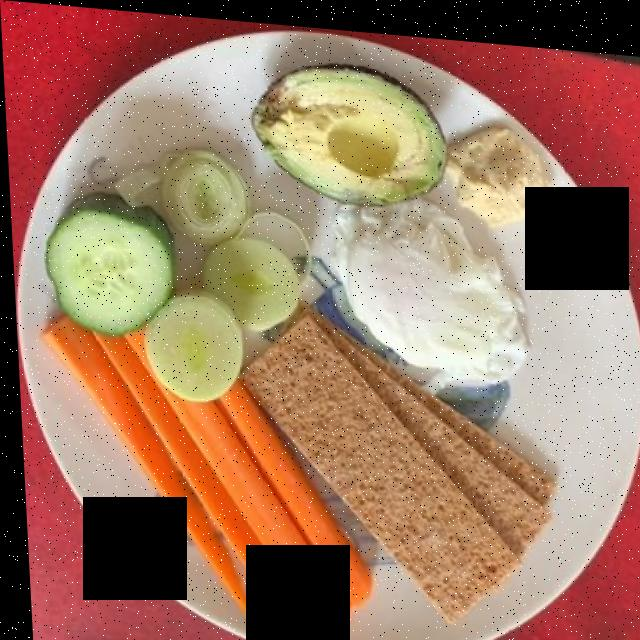avocado: (252, 63, 447, 200)
carrot-raw: (39, 328, 357, 630)
cucumber: (45, 194, 178, 334)
egg: (314, 195, 521, 390)
hummus: (439, 127, 564, 222)
leek: (99, 151, 307, 408)
